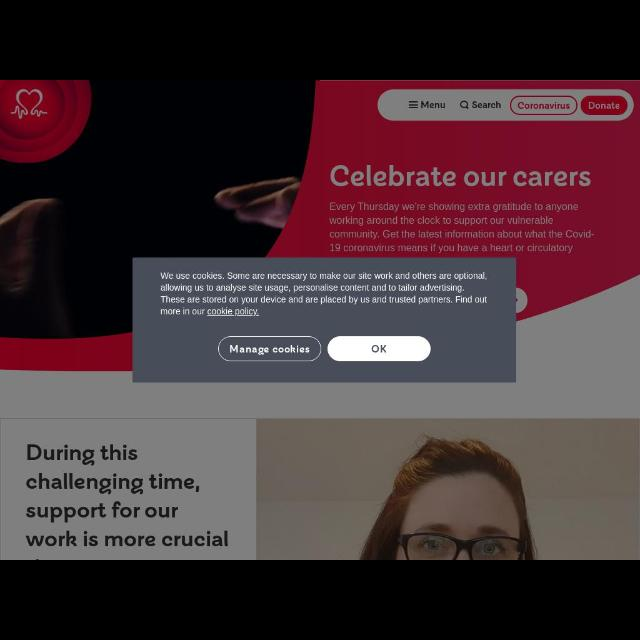icon: (407, 100, 419, 110), (460, 100, 470, 110)
image: (257, 419, 639, 558)
text: (26, 444, 230, 548), (160, 268, 488, 316), (328, 200, 594, 254), (330, 164, 590, 190), (230, 344, 312, 356), (518, 100, 570, 112), (588, 100, 620, 110), (472, 100, 501, 110), (420, 100, 446, 110), (372, 344, 388, 352)
textbutton: (326, 335, 432, 361), (217, 336, 321, 362), (509, 95, 578, 116), (581, 96, 627, 116)
